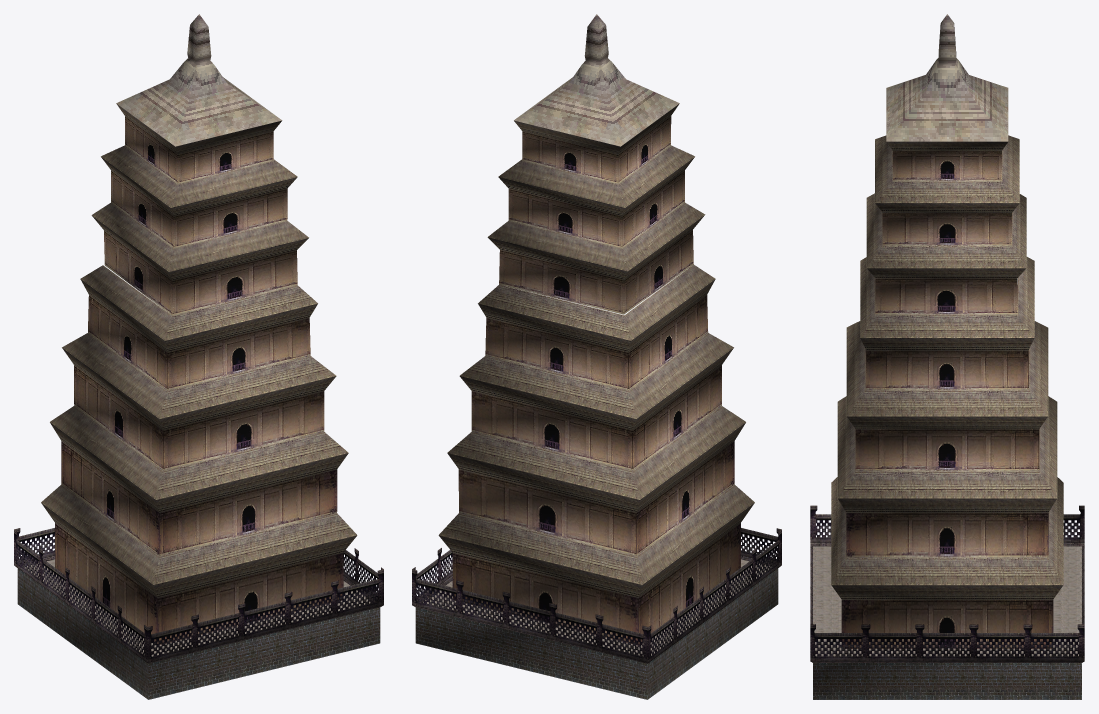
Rendered from cj5_tem_tower.glb.
3 views of the same model, side by side, from view 1: azimuth 30°, elevation 25°; view 2: azimuth 150°, elevation 25°; view 3: azimuth 270°, elevation 25° (orthographic). The views are drawn at different scales.
Visible parts, largest first — view 1: CJ_tem_tower01, CJ_tem_tower_fence, CJ_tem_tower03, CJ_tem_tower02; view 2: CJ_tem_tower01, CJ_tem_tower_fence, CJ_tem_tower03, CJ_tem_tower02; view 3: CJ_tem_tower01, CJ_tem_tower_fence, CJ_tem_tower03, CJ_tem_tower02.
Boxes of the visible parts, bbox=[...] form: CJ_tem_tower01: bbox=[17, 104, 380, 699]; CJ_tem_tower_fence: bbox=[14, 528, 383, 663]; CJ_tem_tower03: bbox=[116, 14, 281, 146]; CJ_tem_tower02: bbox=[25, 559, 370, 656]; CJ_tem_tower01: bbox=[415, 104, 778, 699]; CJ_tem_tower_fence: bbox=[412, 528, 781, 663]; CJ_tem_tower03: bbox=[514, 14, 679, 146]; CJ_tem_tower02: bbox=[423, 559, 771, 656]; CJ_tem_tower01: bbox=[813, 135, 1081, 699]; CJ_tem_tower_fence: bbox=[810, 505, 1084, 662]; CJ_tem_tower03: bbox=[886, 14, 1008, 141]; CJ_tem_tower02: bbox=[813, 546, 1081, 656].
Bounding box in the file's own units: 18.43 × 45.43 × 18.
Materials: 4 (4 with a texture image).
